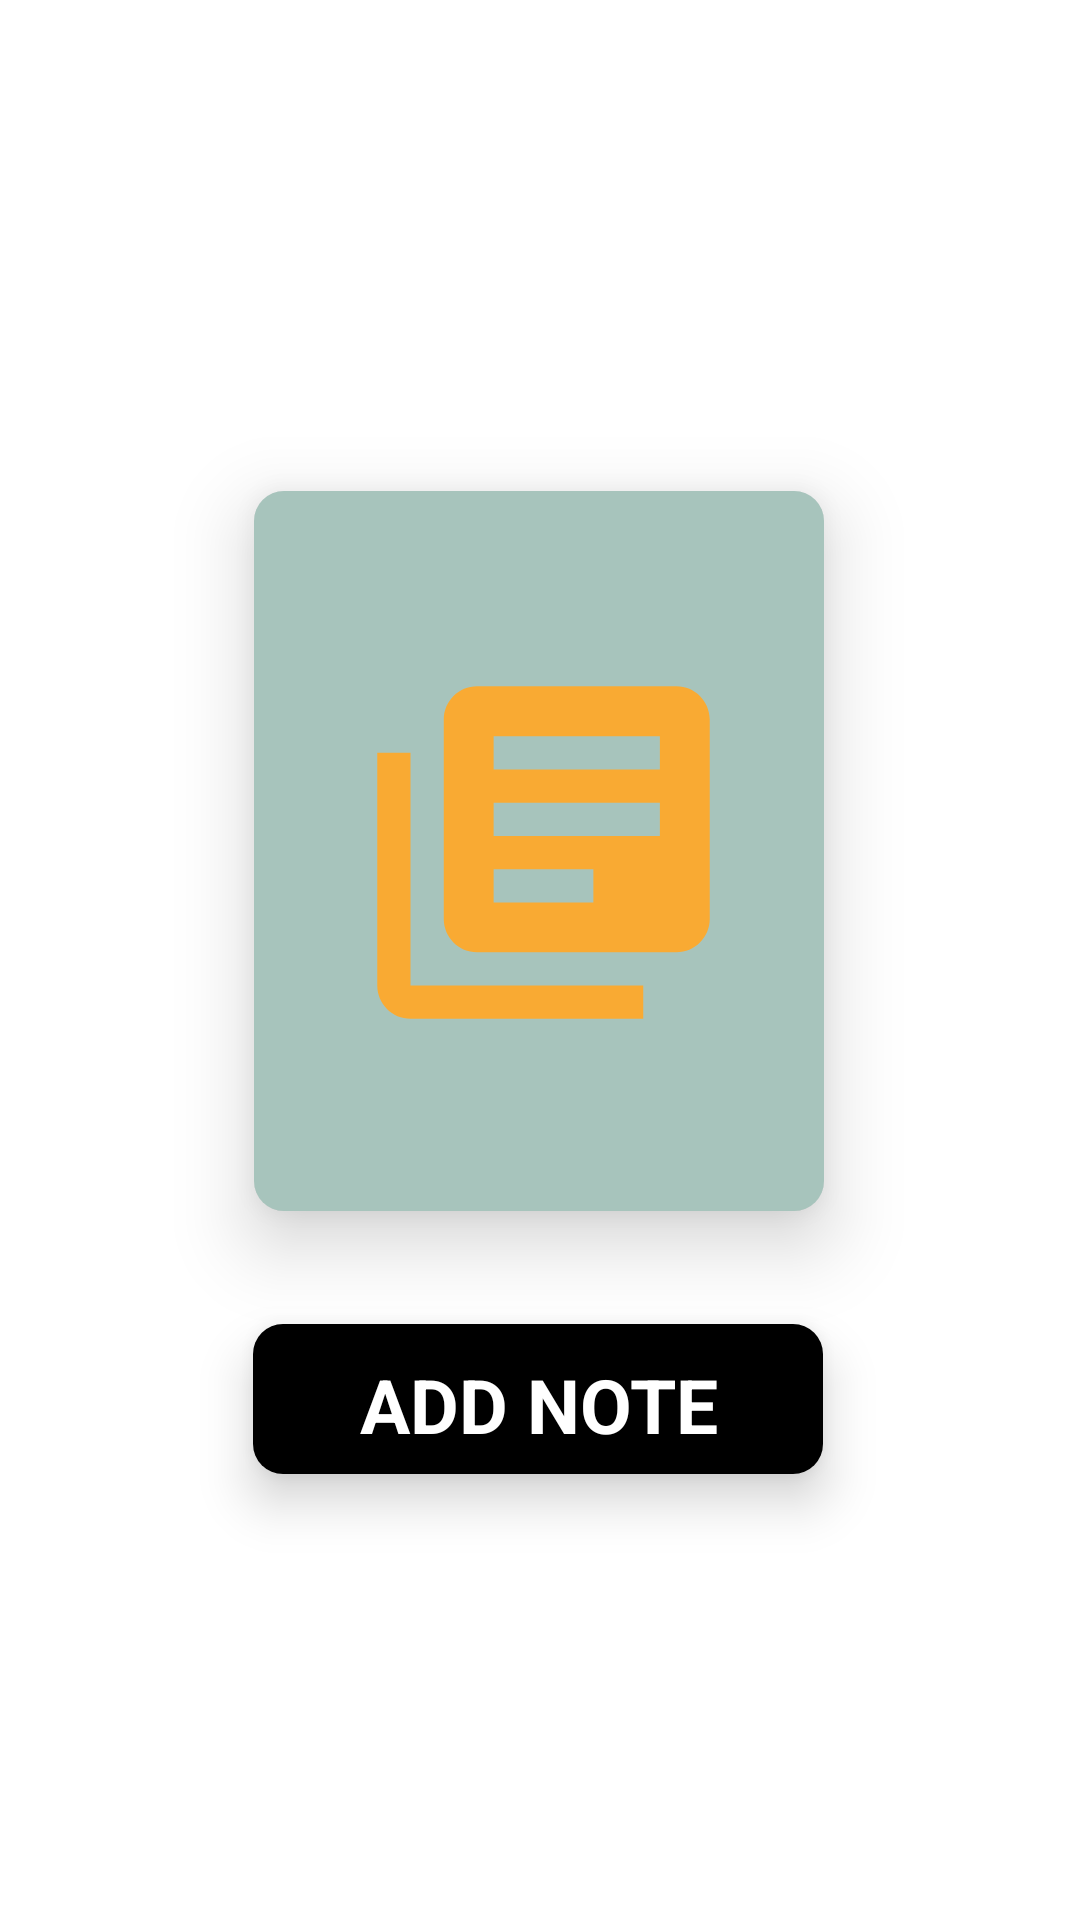

Screen size 1080*1920. Icon name, then its box in pixels as (x1, y1, x2, y2):
library books: (377, 686, 710, 1019)
